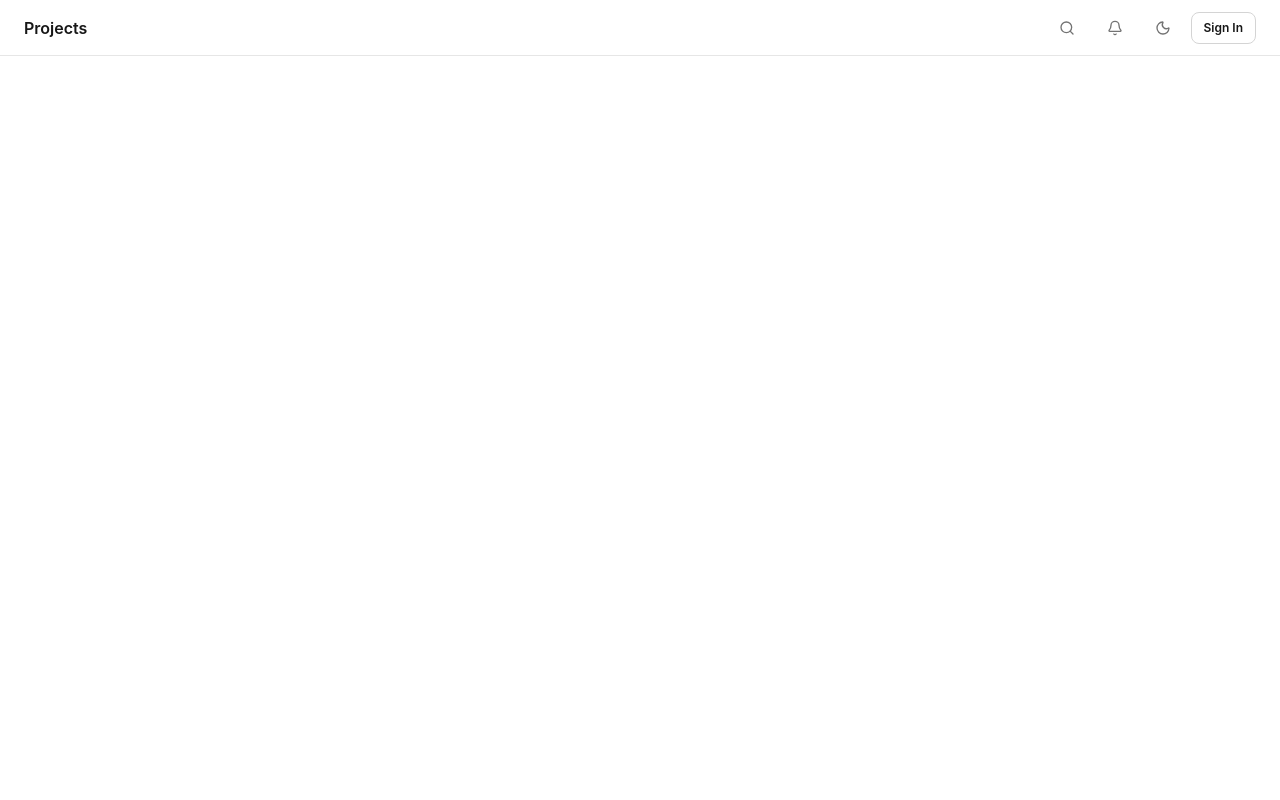
AppHeader Auth Integration › opens global search dialog when Search button is clicked
Click the button named "Search items": (1066, 28) [1046,8,1086,48]
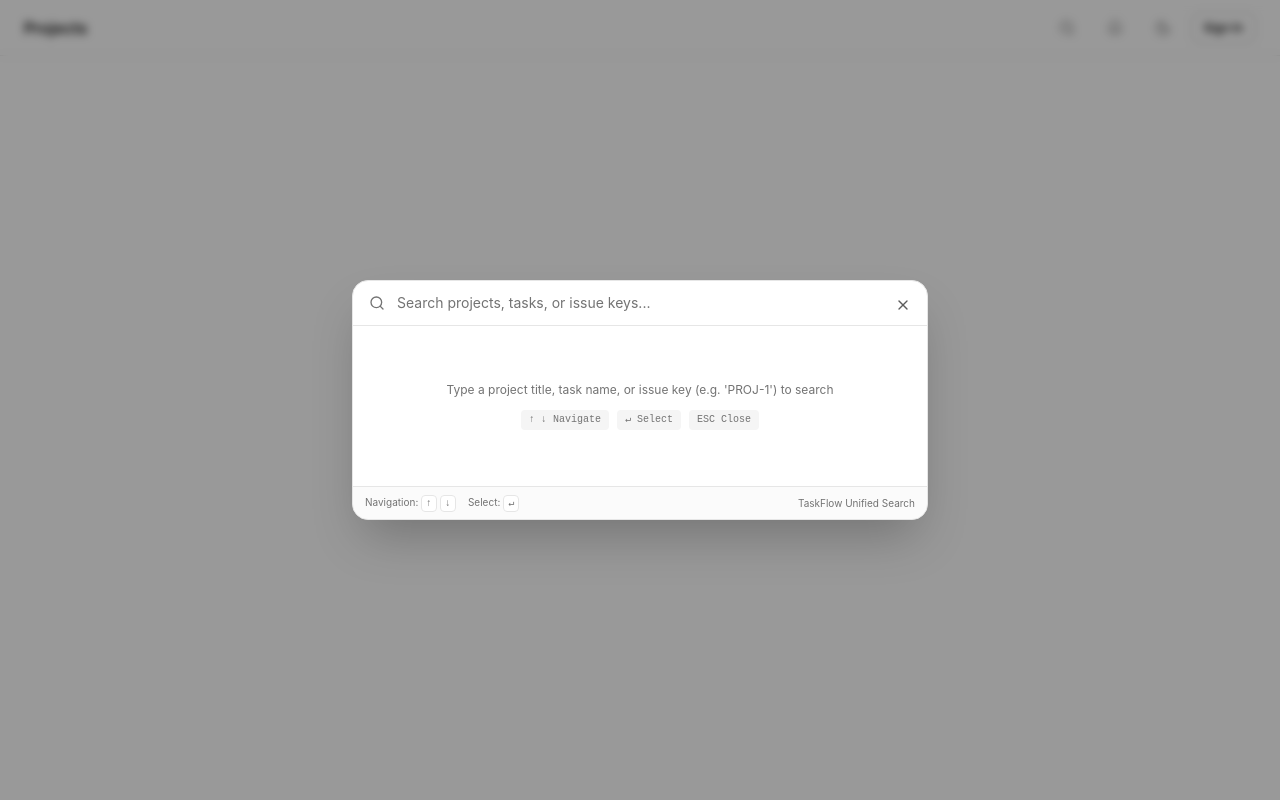
Now the field with placeholder "Search projects, tasks, or issue keys..." is shown, box [397,293,911,313]
